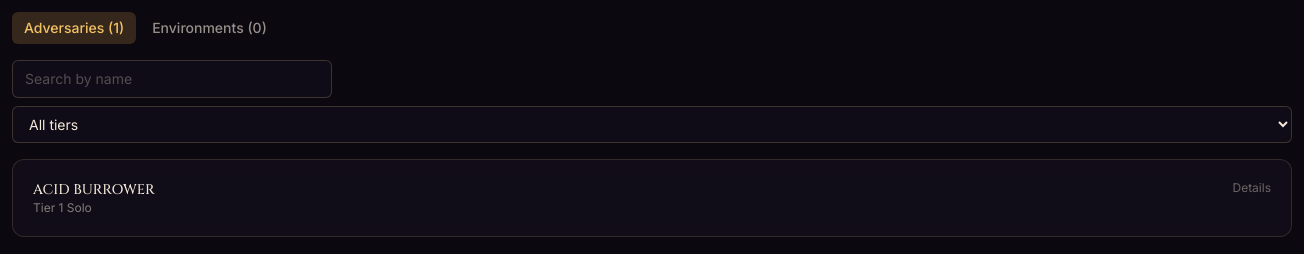
Test: BestiaryPage › filters adversaries by search text
This screenshot has width=1304, height=254.
Expected: the heading "ACID BURROWER" is shown, x1=33 y1=180 x2=155 y2=200
Step 1. Type "zombie" into the field with placeholder "Search by name" → coordinates (172, 79), box x1=12 y1=60 x2=332 y2=98
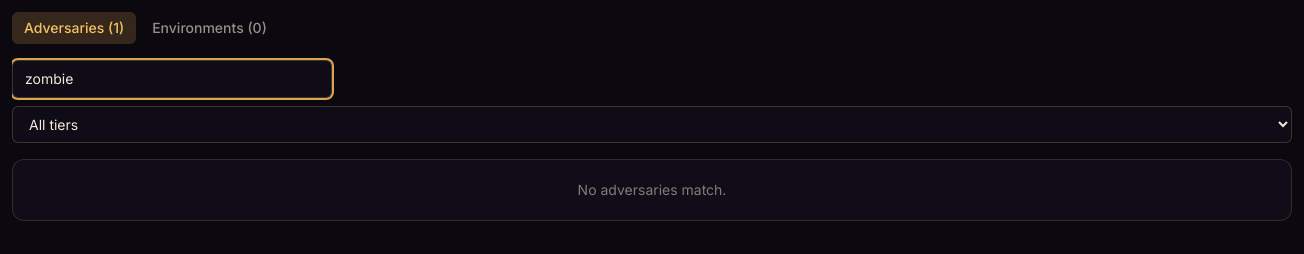
Result: the list item "No adversaries match." is shown at x1=12 y1=159 x2=1292 y2=221
